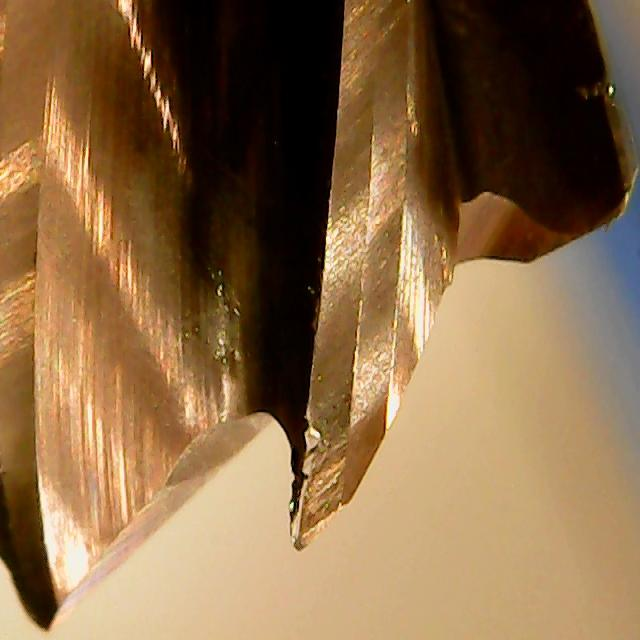Tool-wear-class-1: (268, 305, 412, 557)
